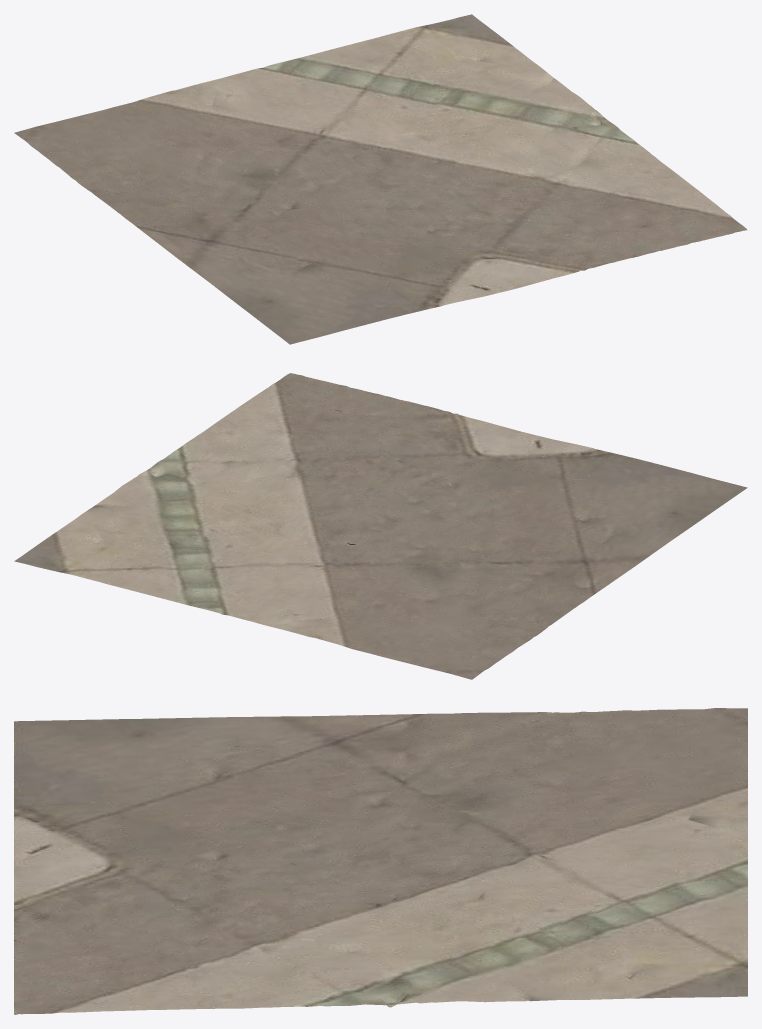
3 renders of one model, top to bottom at view 1: azimuth 30°, elevation 25°; view 2: azimuth 150°, elevation 25°; view 3: azimuth 270°, elevation 25°, orthographic. The views are drawn at different scales.
Bounding box in the file's own units: 3.08 × 0.1169 × 3.21.
Materials: 1 (1 with a texture image).
